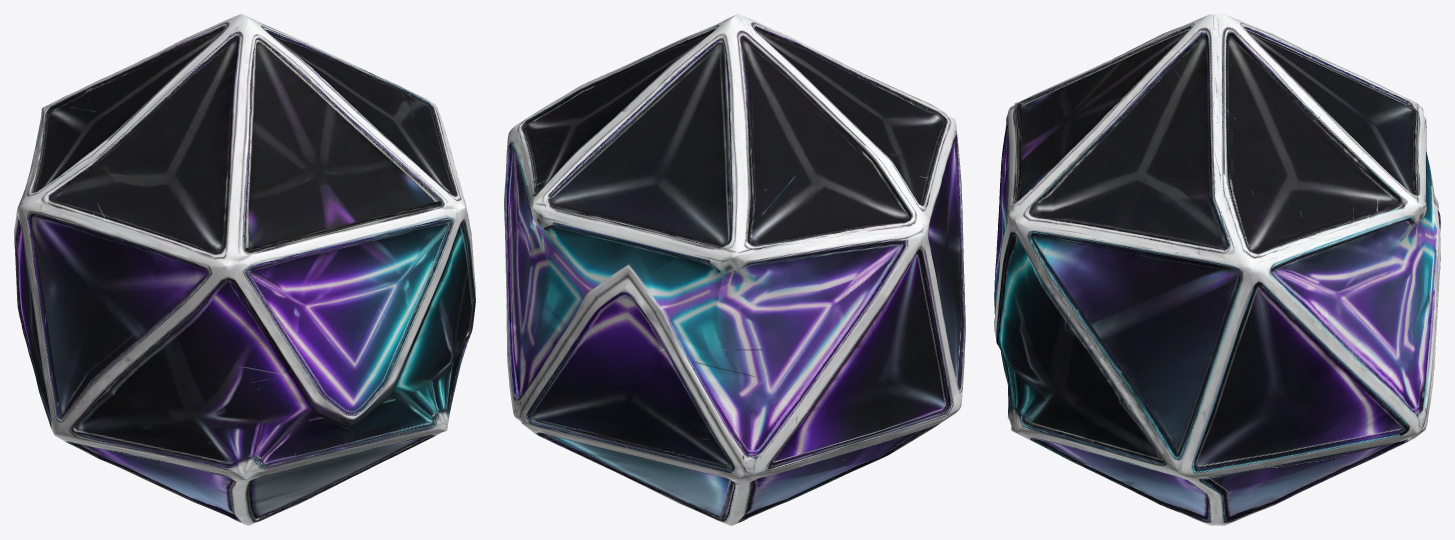
The model's file is ai-core.glb.
The picture shows the model from 3 angles, left to right: view 1: azimuth 30°, elevation 25°; view 2: azimuth 150°, elevation 25°; view 3: azimuth 270°, elevation 25°; orthographic projection.
Parts seen in each view (by area): view 1: Mesh_0; view 2: Mesh_0; view 3: Mesh_0.
Part boxes in pixels (left/top/right/bottom): Mesh_0: left=14, top=14, right=475, bottom=525; Mesh_0: left=504, top=14, right=965, bottom=525; Mesh_0: left=994, top=14, right=1440, bottom=525.
Bounding box in the file's own units: 1.64 × 1.91 × 1.51.
Materials: 1 (1 with a texture image).
